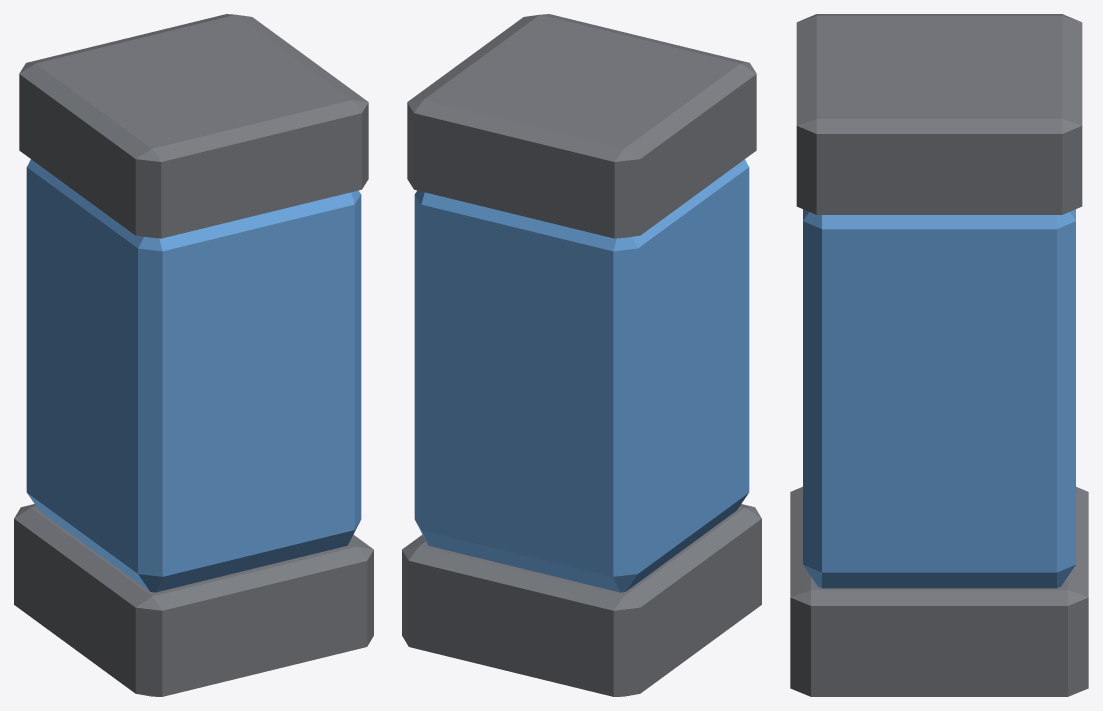
The model's file is b14_postal_collection_drop_box.glb.
3 renders of one model, left to right at view 1: azimuth 30°, elevation 25°; view 2: azimuth 150°, elevation 25°; view 3: azimuth 270°, elevation 25°, orthographic. The views are drawn at different scales.
Visible parts, largest first — view 1: b14_postal_collection_drop_box; view 2: b14_postal_collection_drop_box; view 3: b14_postal_collection_drop_box.
Boxes of the visible parts, x1,y1,x2,y2 form: b14_postal_collection_drop_box: [14, 14, 373, 696]; b14_postal_collection_drop_box: [402, 14, 761, 696]; b14_postal_collection_drop_box: [790, 14, 1088, 696].
Bounding box in the file's own units: 0.64 × 1.4 × 0.658.
